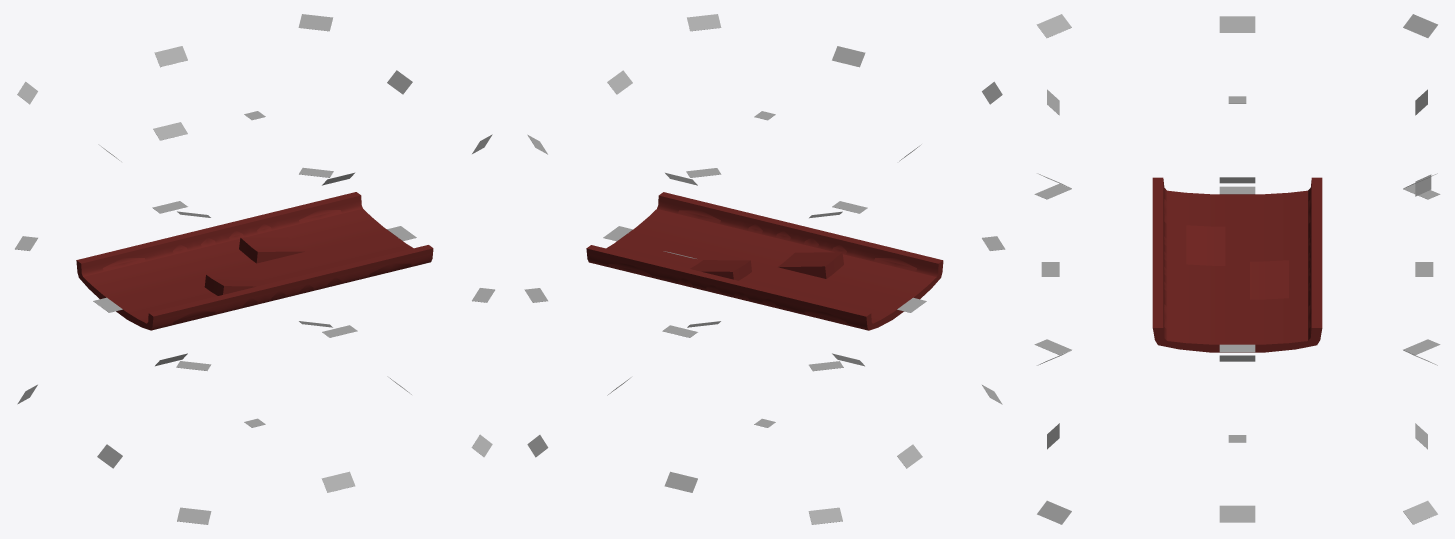
File: StraightRamp.fbx
3 views of the same model, side by side, from view 1: azimuth 30°, elevation 25°; view 2: azimuth 150°, elevation 25°; view 3: azimuth 270°, elevation 25° (orthographic). The views are drawn at different scales.
Parts seen in each view (by area): view 1: pPipe3; view 2: pPipe3; view 3: pPipe3, pasted__pCube29, pasted__pCube36, pasted__pCube46, pasted__pCube43, pasted__pCube49, pasted__pCube50.
Boxes of the visible parts, x1,y1,x2,y2 form: pPipe3: [76, 192, 433, 330]; pPipe3: [586, 192, 943, 330]; pPipe3: [1152, 177, 1322, 352]; pasted__pCube29: [1219, 505, 1255, 522]; pasted__pCube36: [1219, 16, 1255, 32]; pasted__pCube46: [1037, 500, 1071, 524]; pasted__pCube43: [1403, 500, 1437, 524]; pasted__pCube49: [1403, 14, 1437, 37]; pasted__pCube50: [1037, 14, 1071, 37].
Bounding box in the file's own units: 22.82 × 21.41 × 22.82.
